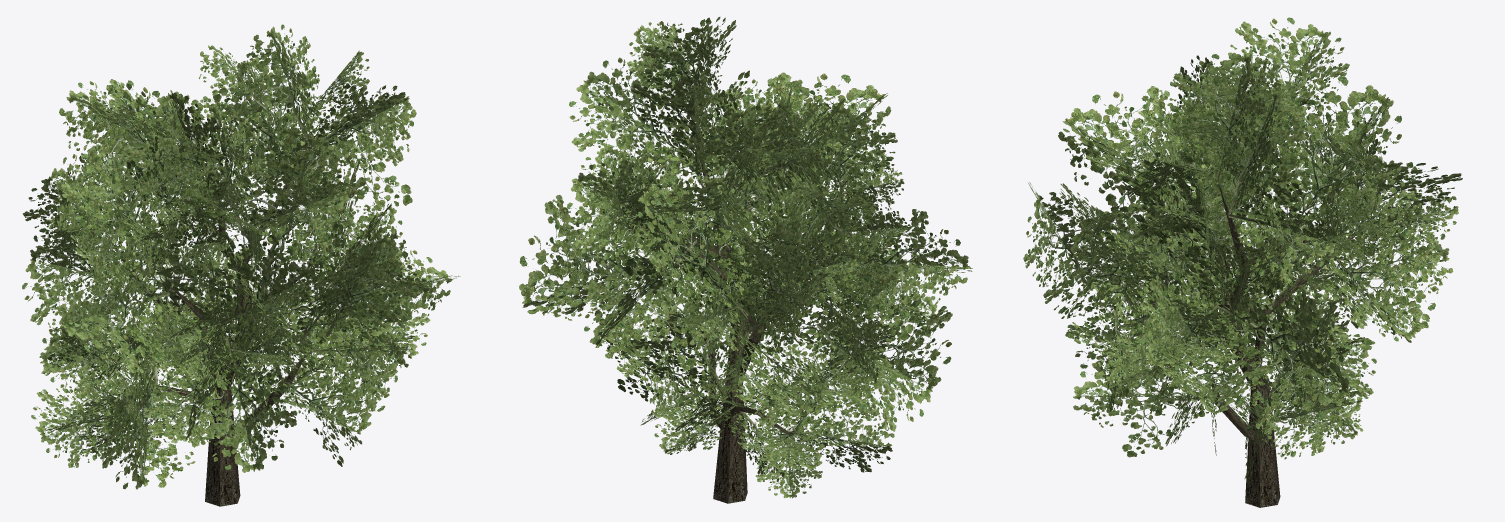
The model's file is waiweishuqian.FBX.
3 views of the same model, side by side, from view 1: azimuth 30°, elevation 25°; view 2: azimuth 150°, elevation 25°; view 3: azimuth 270°, elevation 25° (orthographic). The views are drawn at different scales.
Parts seen in each view (by area): view 1: waiweishuq; view 2: waiweishuq; view 3: waiweishuq.
Boxes of the visible parts, x1,y1,x2,y2 form: waiweishuq: (22, 24, 460, 506); waiweishuq: (519, 17, 972, 503); waiweishuq: (1023, 17, 1462, 507).
Size of the model in its own units: 20.65 by 21.33 by 18.99.
Materials: 2 (2 with a texture image).
